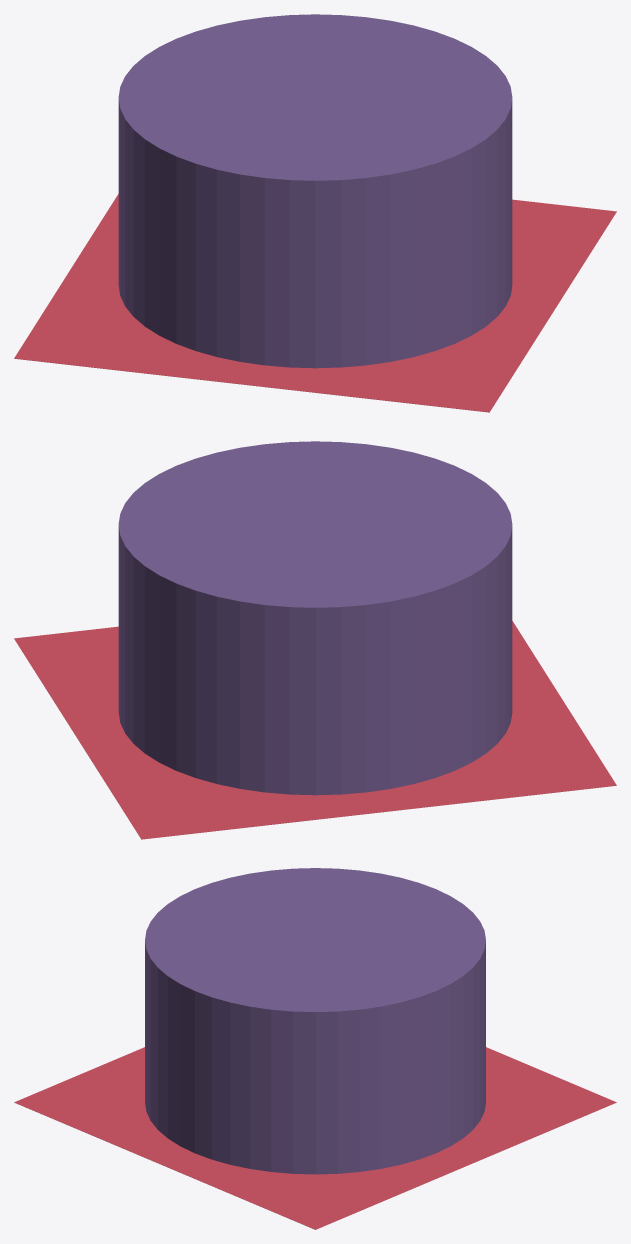
Rendered from UUU.glb.
3 renders of one model, top to bottom at view 1: azimuth 30°, elevation 25°; view 2: azimuth 150°, elevation 25°; view 3: azimuth 270°, elevation 25°, orthographic. The views are drawn at different scales.
Parts seen in each view (by area): view 1: Mesh_Mesh_head_geo.001_lambert2SG.001; view 2: Mesh_Mesh_head_geo.001_lambert2SG.001; view 3: Mesh_Mesh_head_geo.001_lambert2SG.001.
Part boxes in pixels (box(x1,y1,x2,y2)): Mesh_Mesh_head_geo.001_lambert2SG.001: box(14, 14, 616, 412); Mesh_Mesh_head_geo.001_lambert2SG.001: box(14, 441, 616, 839); Mesh_Mesh_head_geo.001_lambert2SG.001: box(14, 868, 616, 1229).
Bounding box in the file's own units: 0.0354 × 0.0105 × 0.0354.
